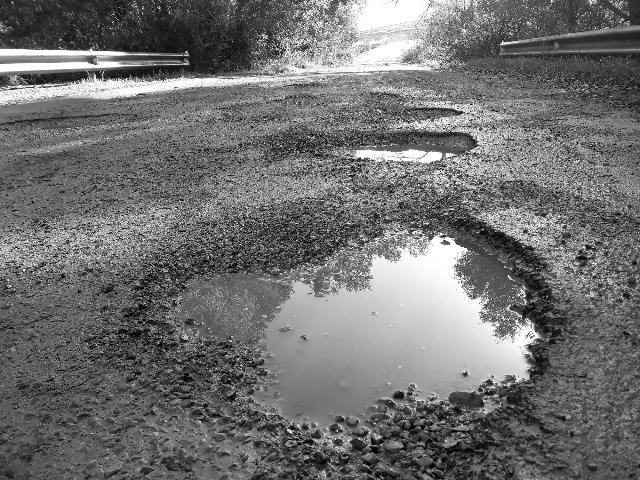Pothole: (163, 205, 559, 448), (311, 132, 481, 162), (380, 106, 470, 126)
